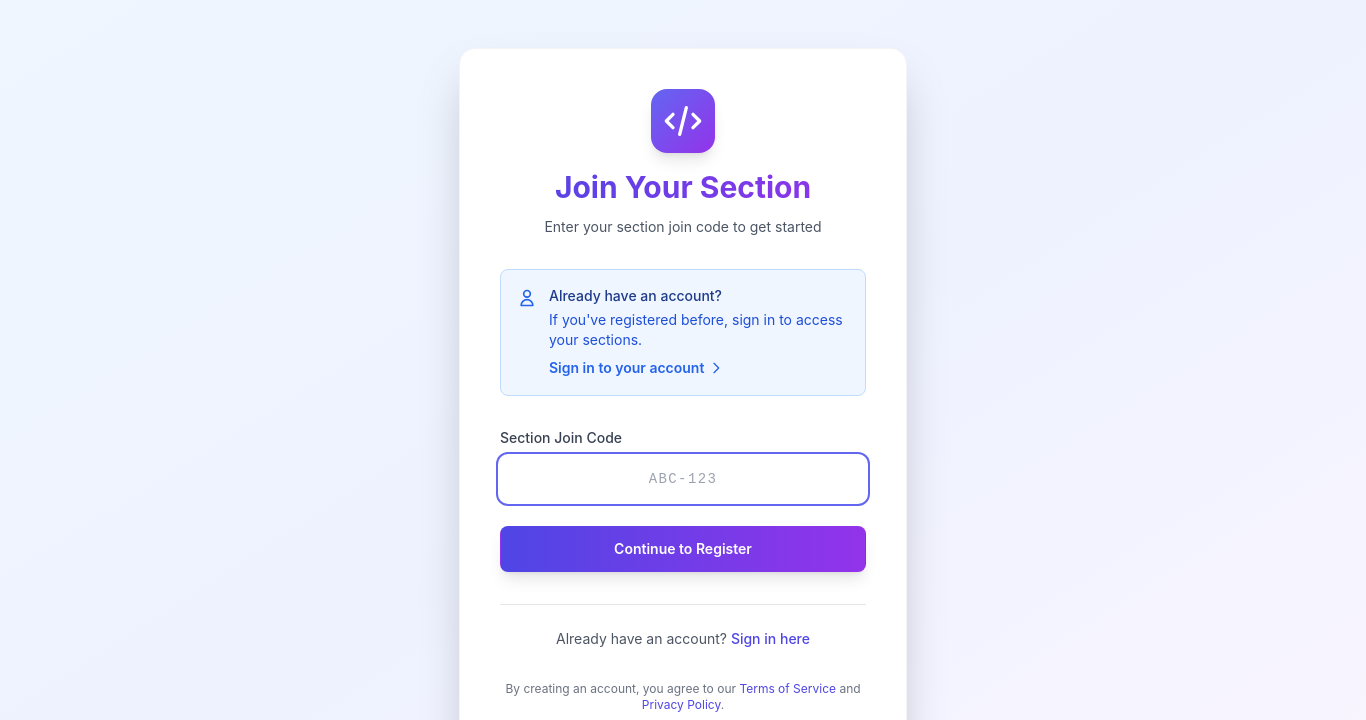
Test: StudentRegistrationPage › Registration Form Validation › validates email format
Type "ABC123" into the field with placeholder "ABC-123".
click(683, 479); type("ABC123")  # box x1=500 y1=456 x2=866 y2=502
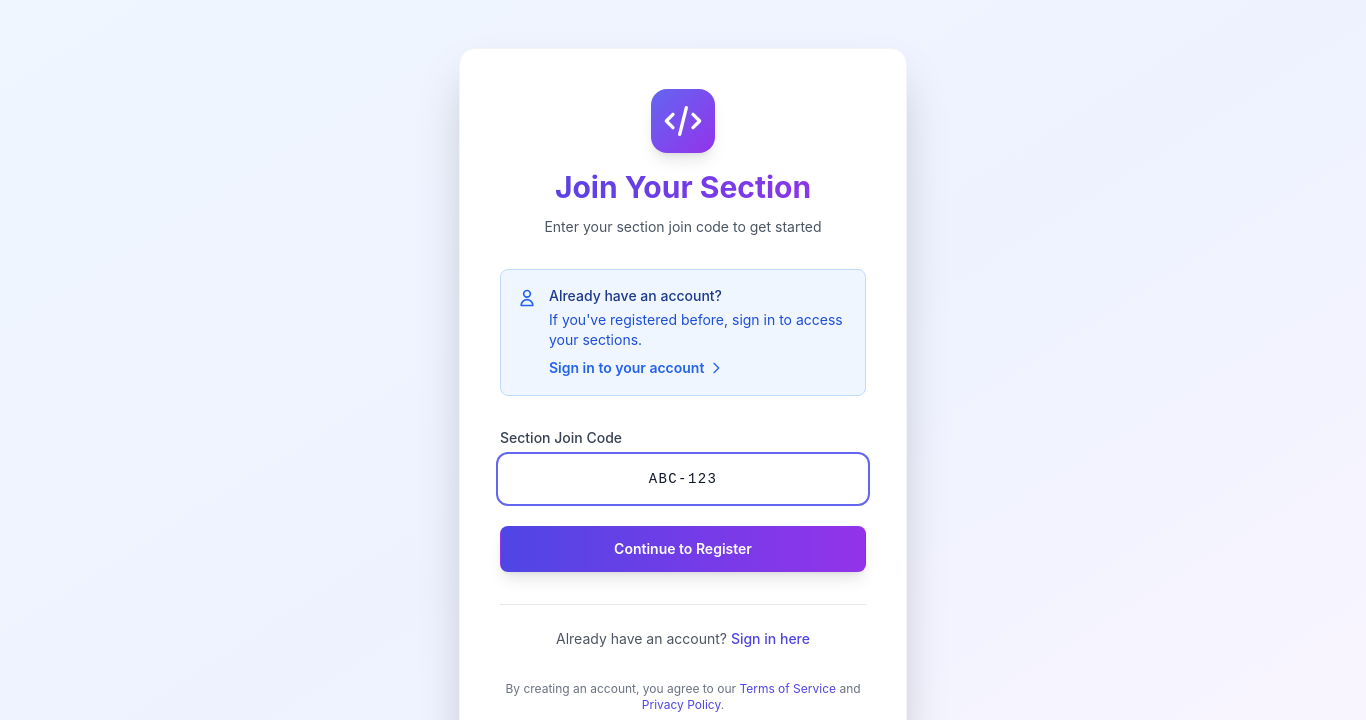
Click the button "Continue to Register".
click(683, 549)  # box x1=500 y1=526 x2=866 y2=572
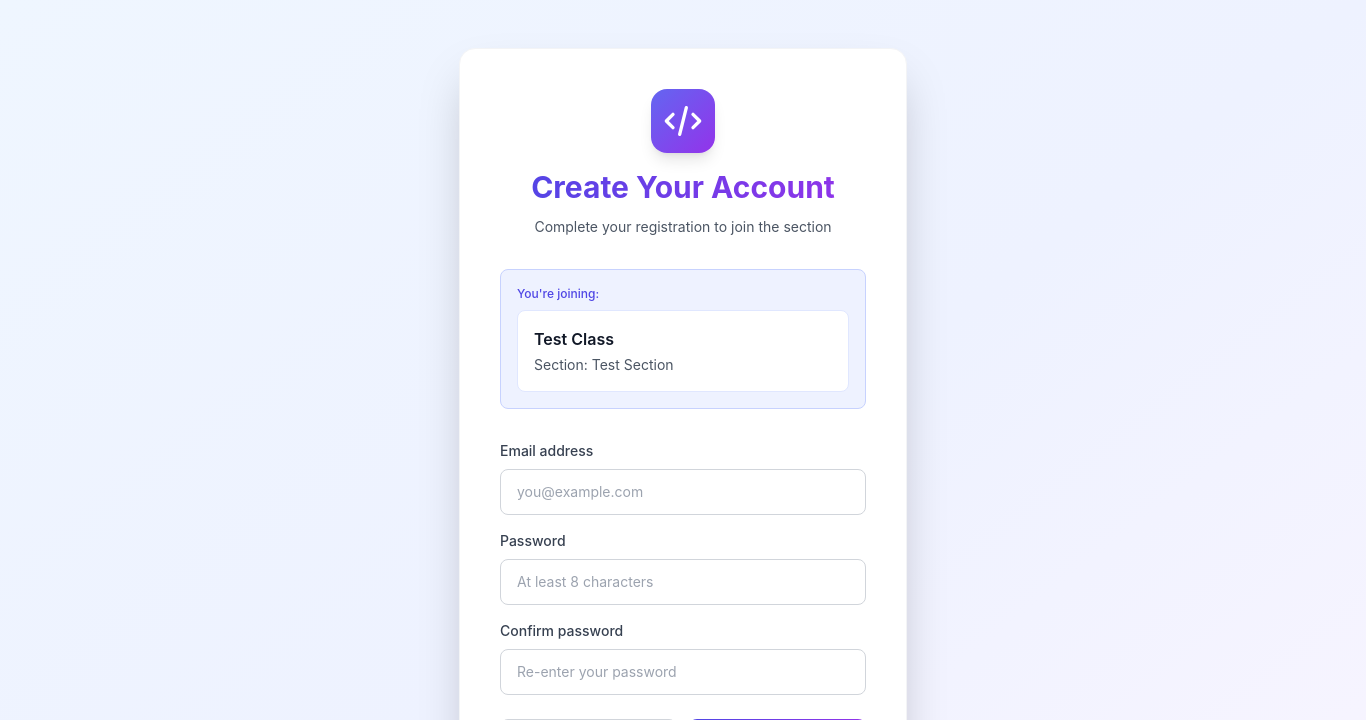
Expected: the heading "Create Your Account" is shown, x1=500 y1=169 x2=866 y2=205
Type "invalid-email" into the field with placeholder "you@example.com".
click(683, 492); type("invalid-email")  # box x1=500 y1=469 x2=866 y2=515
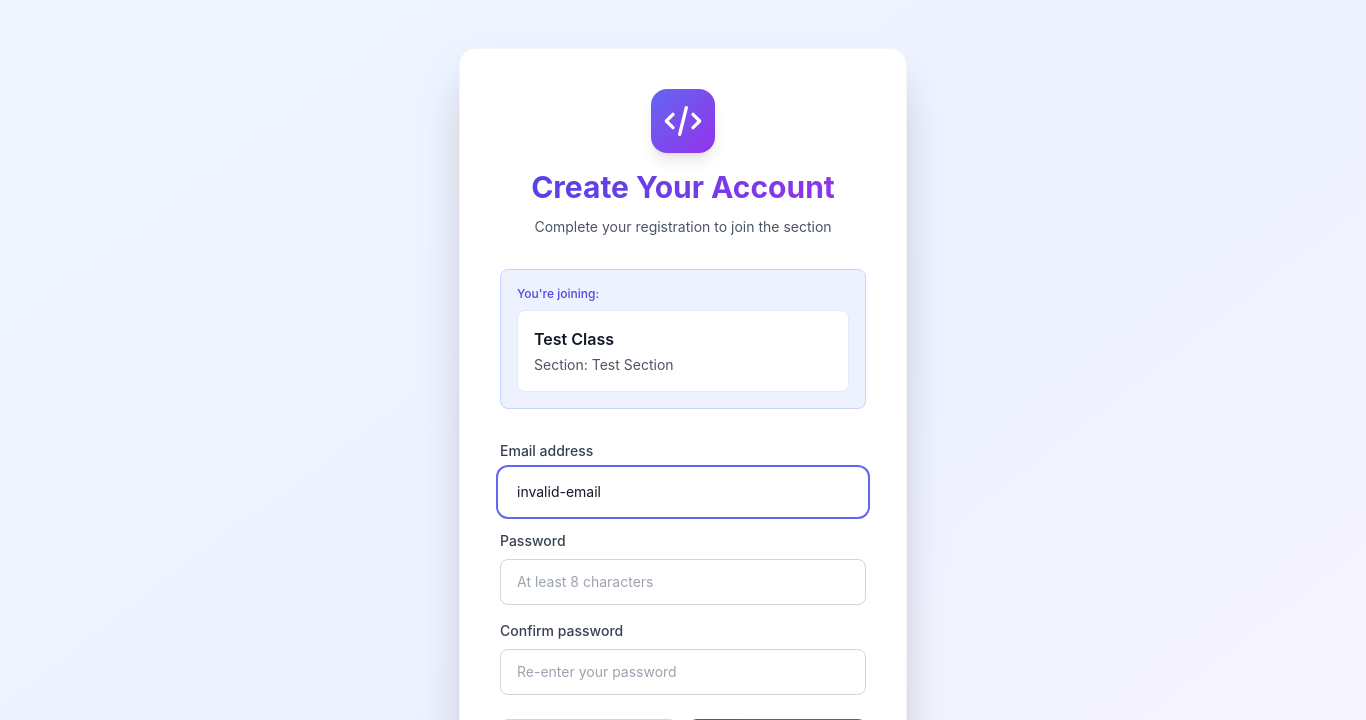
Leave the field with placeholder "you@example.com", box x1=500 y1=469 x2=866 y2=515
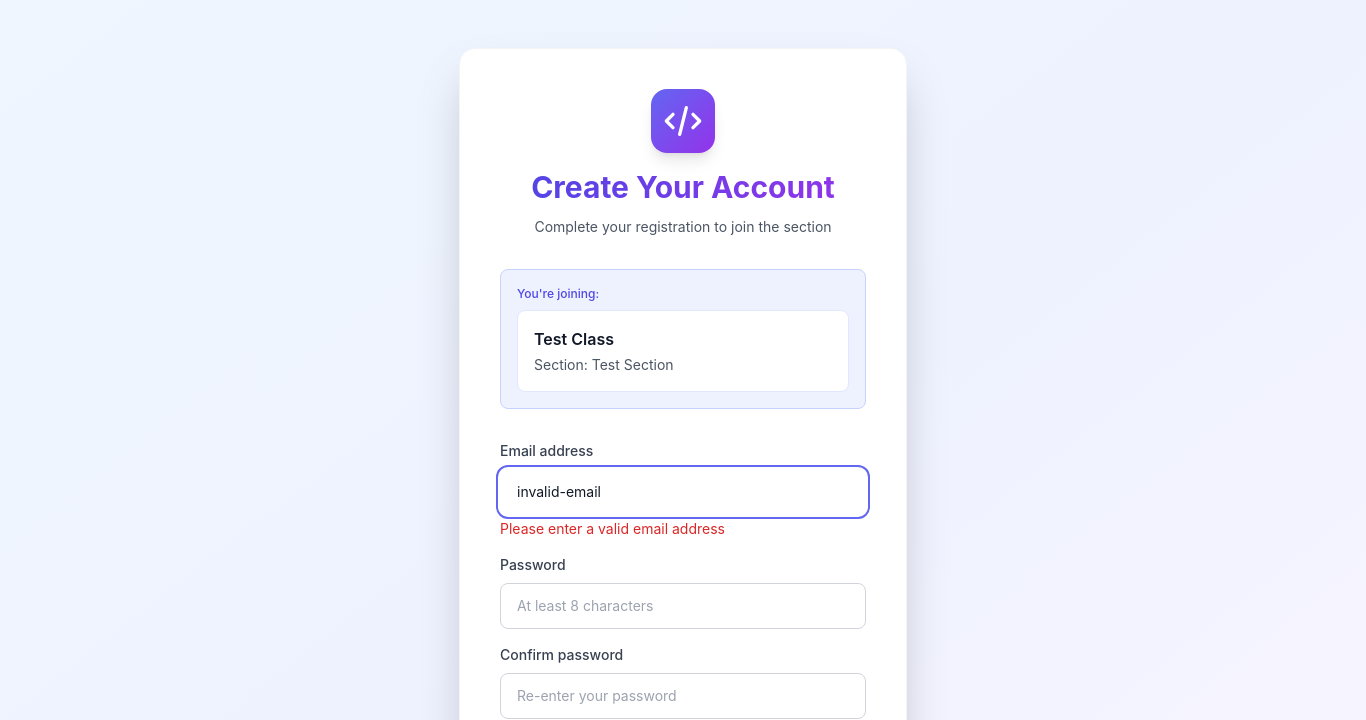
Expected: the text "Please enter a valid email address" is shown, x1=500 y1=520 x2=725 y2=537
